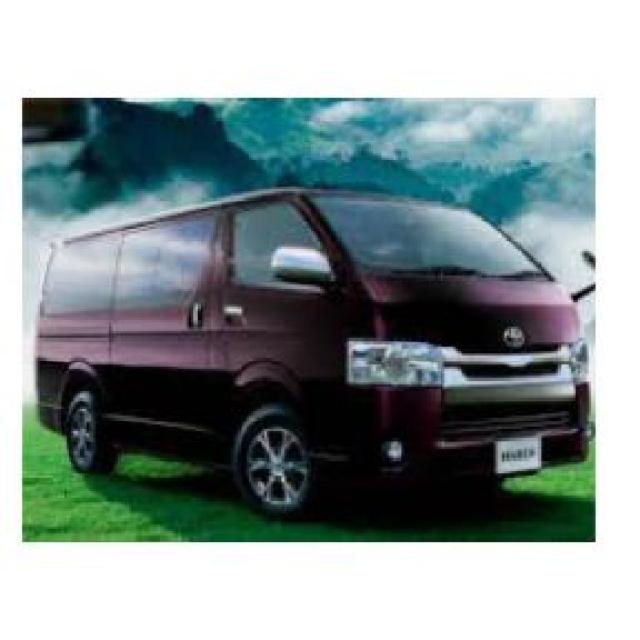Van: (33, 190, 592, 507)
